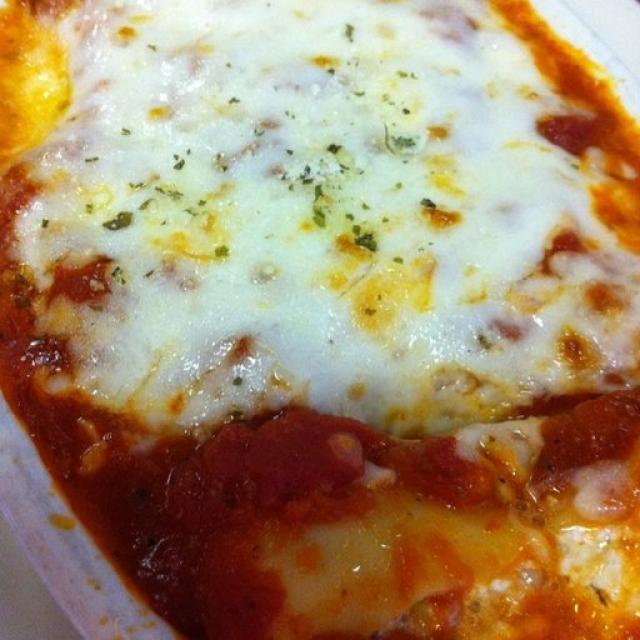Lasagna: (10, 5, 621, 625)
